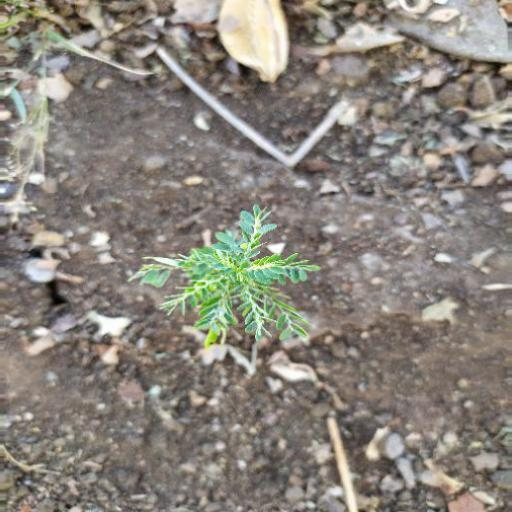weed: (138, 178, 340, 380)
